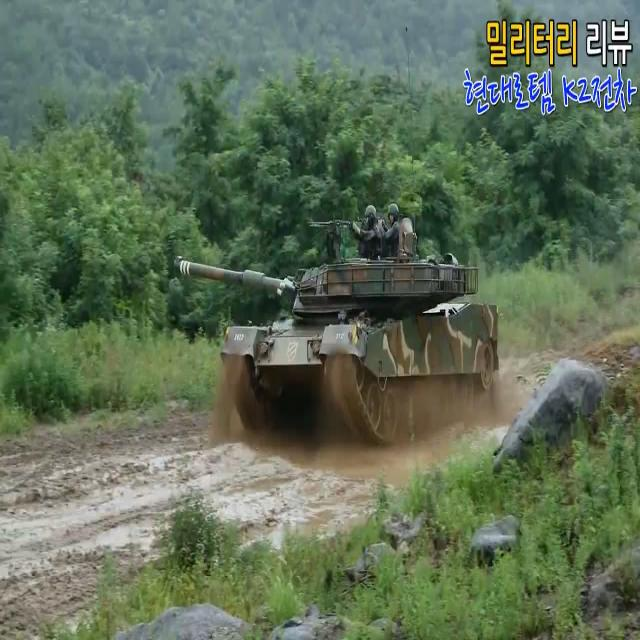korea tank: (176, 204, 500, 446)
